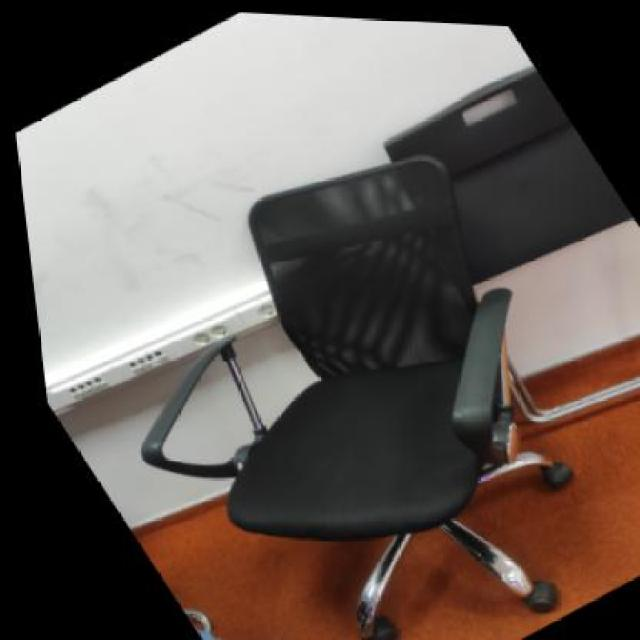chair: (6, 66, 639, 639)
